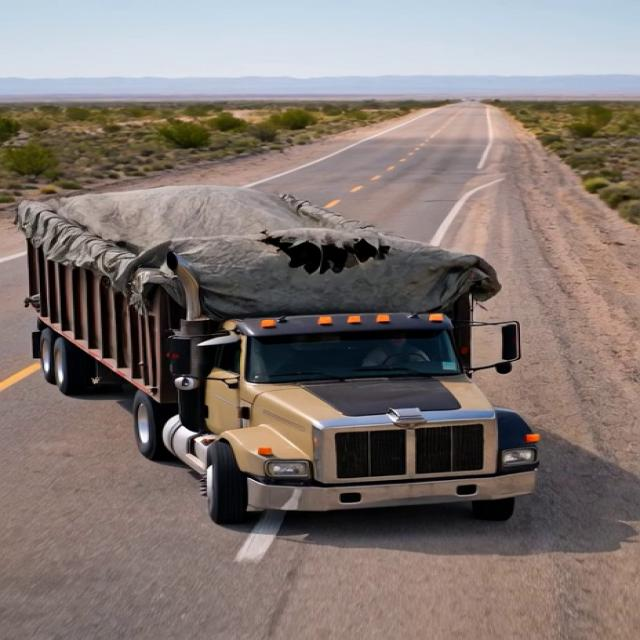trailer: (23, 183, 486, 329)
